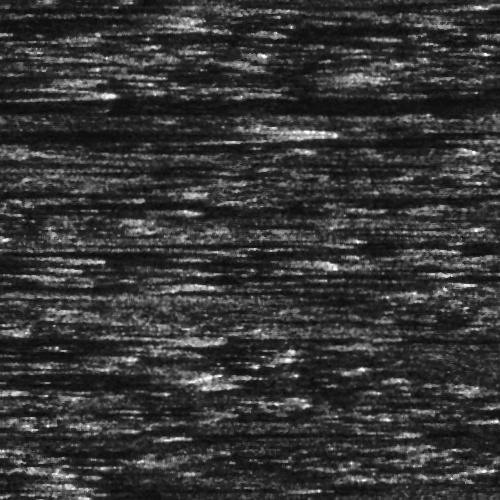object: (177, 122, 364, 139), (0, 253, 132, 274), (116, 327, 231, 348), (0, 82, 148, 95), (127, 9, 220, 26), (165, 2, 280, 13), (105, 185, 220, 196), (283, 70, 388, 81), (143, 369, 258, 378), (23, 77, 128, 86), (257, 257, 350, 266), (408, 278, 491, 287), (148, 279, 221, 288), (229, 27, 302, 36), (99, 456, 182, 463), (370, 429, 443, 436), (283, 239, 356, 246), (153, 381, 226, 388), (457, 136, 500, 147), (435, 1, 500, 8), (148, 432, 221, 437), (88, 351, 151, 356), (266, 486, 329, 491), (44, 31, 107, 36), (424, 160, 465, 167), (70, 473, 81, 488)
shadow: (120, 96, 500, 109), (0, 122, 271, 139), (0, 327, 174, 348), (0, 9, 174, 26), (0, 257, 304, 266), (39, 2, 222, 13), (162, 70, 336, 81), (0, 369, 200, 378), (0, 185, 163, 196), (345, 136, 500, 147), (0, 279, 185, 288), (282, 278, 450, 287), (0, 253, 64, 274), (10, 381, 189, 388), (144, 239, 320, 246), (389, 192, 500, 203), (238, 429, 406, 436), (0, 473, 75, 488), (128, 486, 298, 491), (0, 82, 64, 95), (358, 1, 472, 8), (333, 160, 444, 167), (0, 77, 75, 86), (64, 432, 184, 437), (0, 351, 119, 356), (207, 27, 265, 36), (80, 456, 140, 463), (0, 31, 75, 36), (473, 338, 500, 345), (393, 248, 449, 249)
